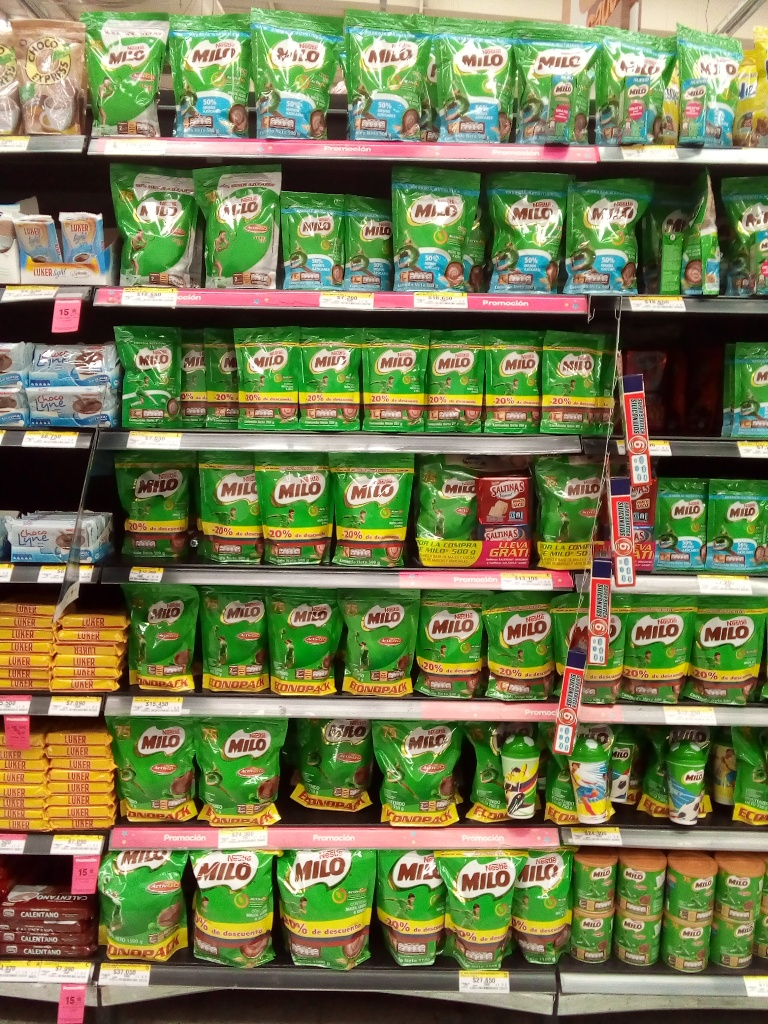COL0170203DYP25000: (116, 328, 183, 430)
COL0170203DYP50000: (420, 456, 478, 567)
COL0170203LAT40000: (577, 854, 616, 914)
COL0170205DYP20000: (656, 478, 706, 573)
COL0170205DYP50000: (82, 14, 170, 136)
